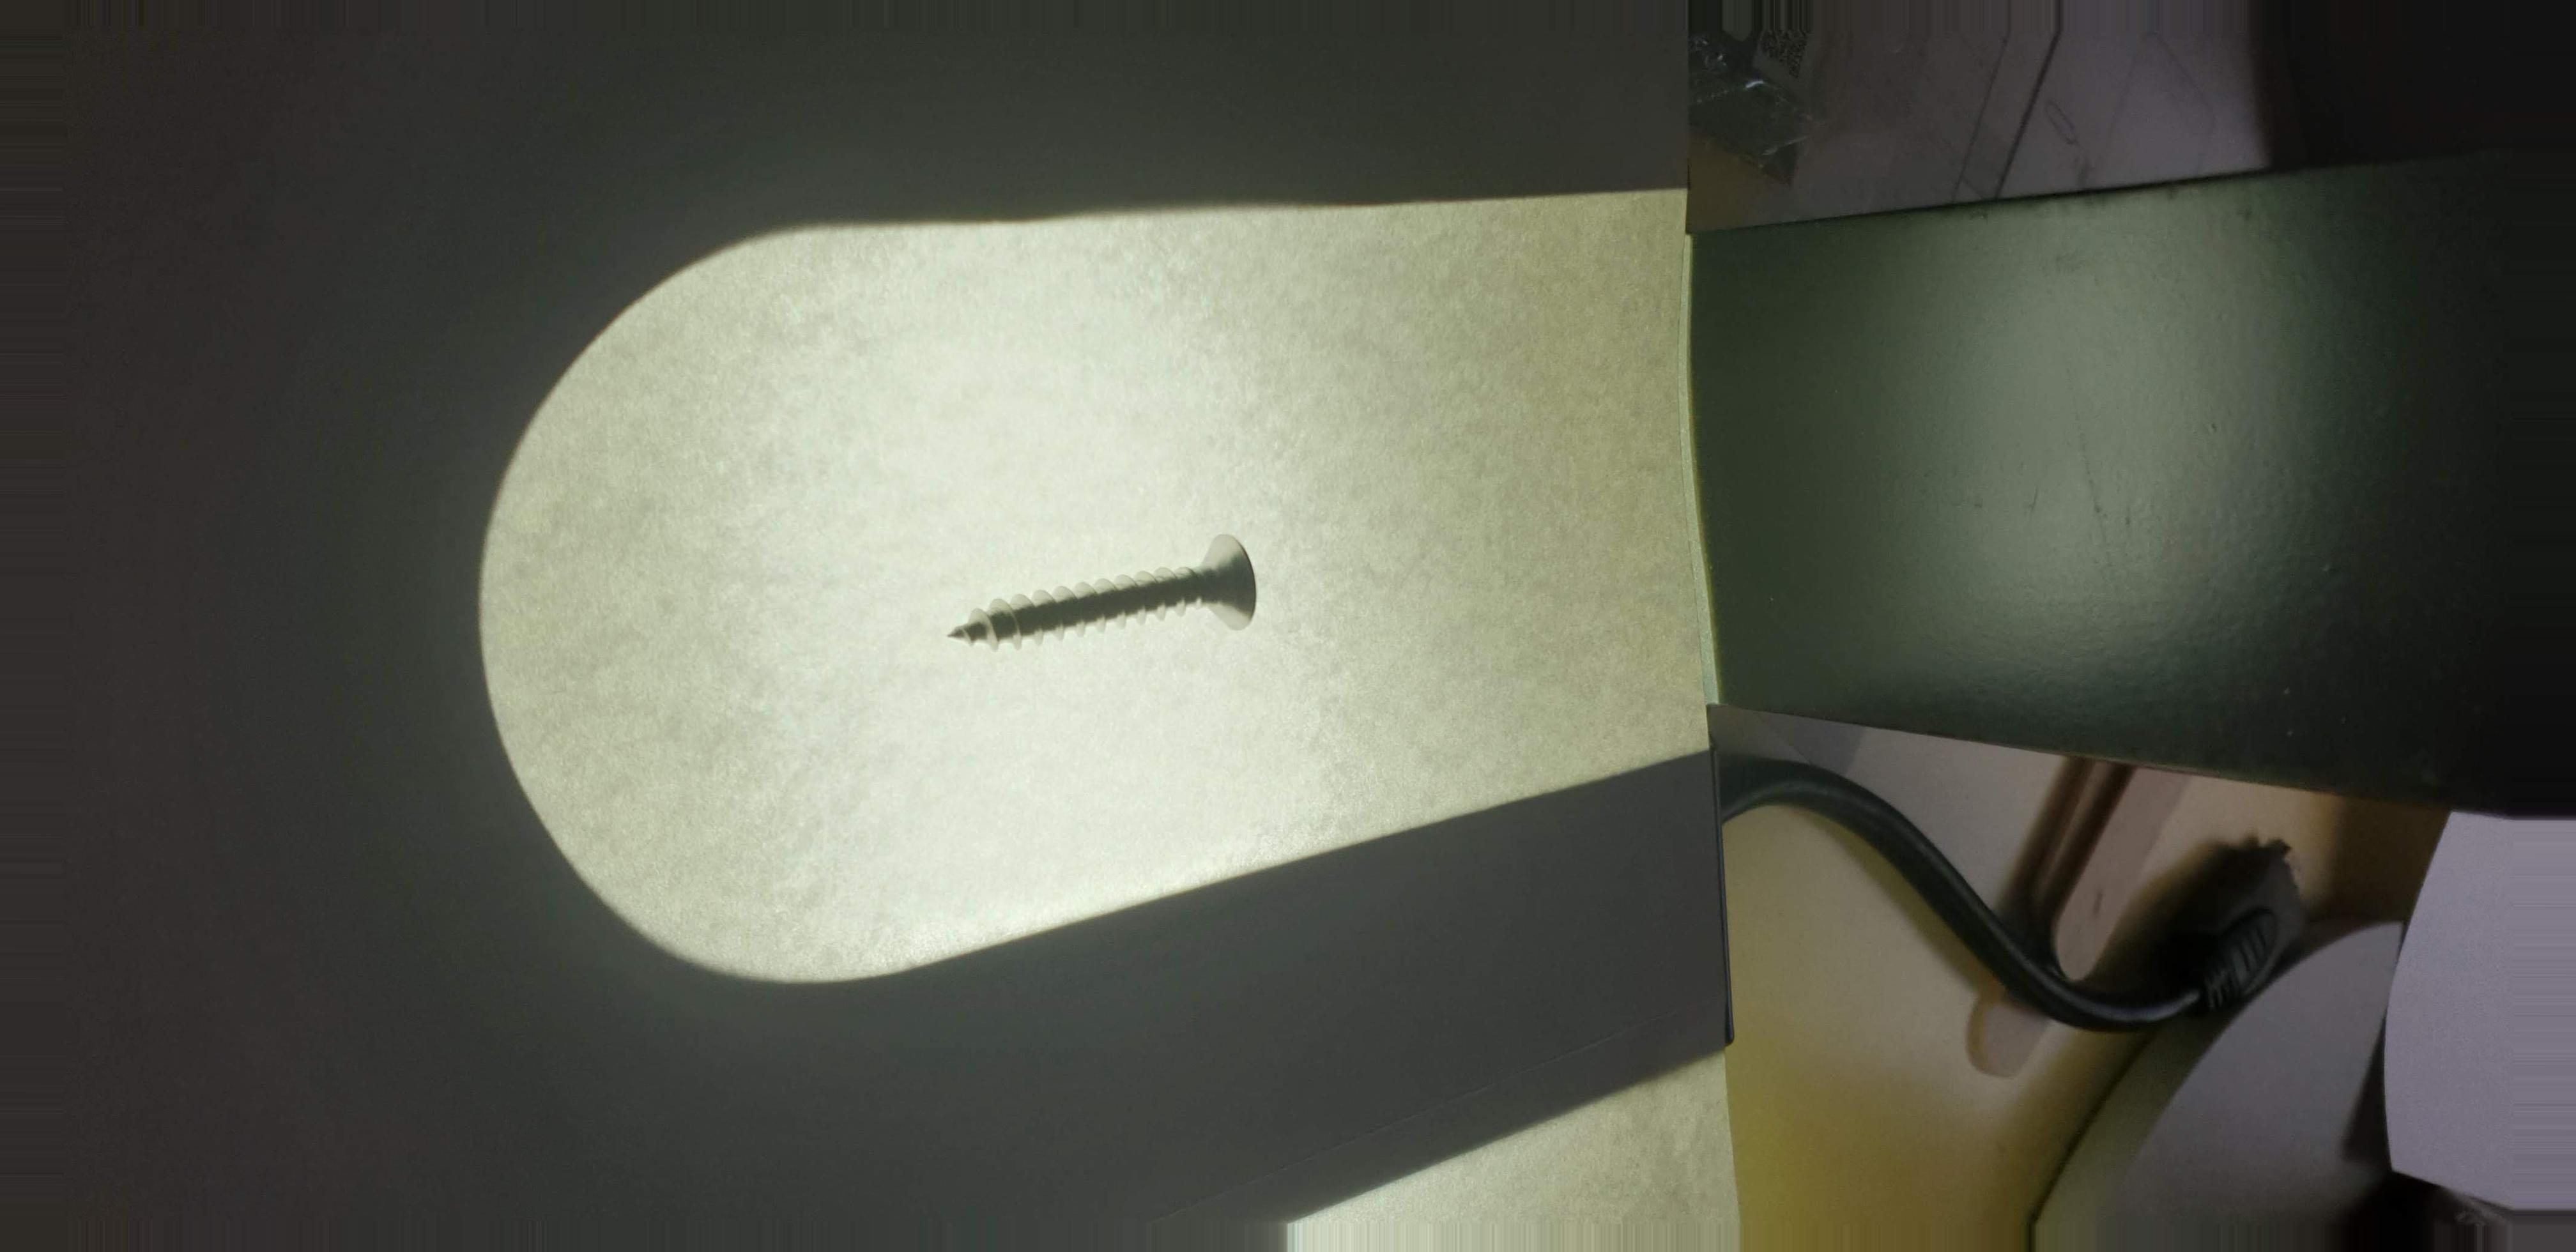S004: (904, 513, 1324, 693)
